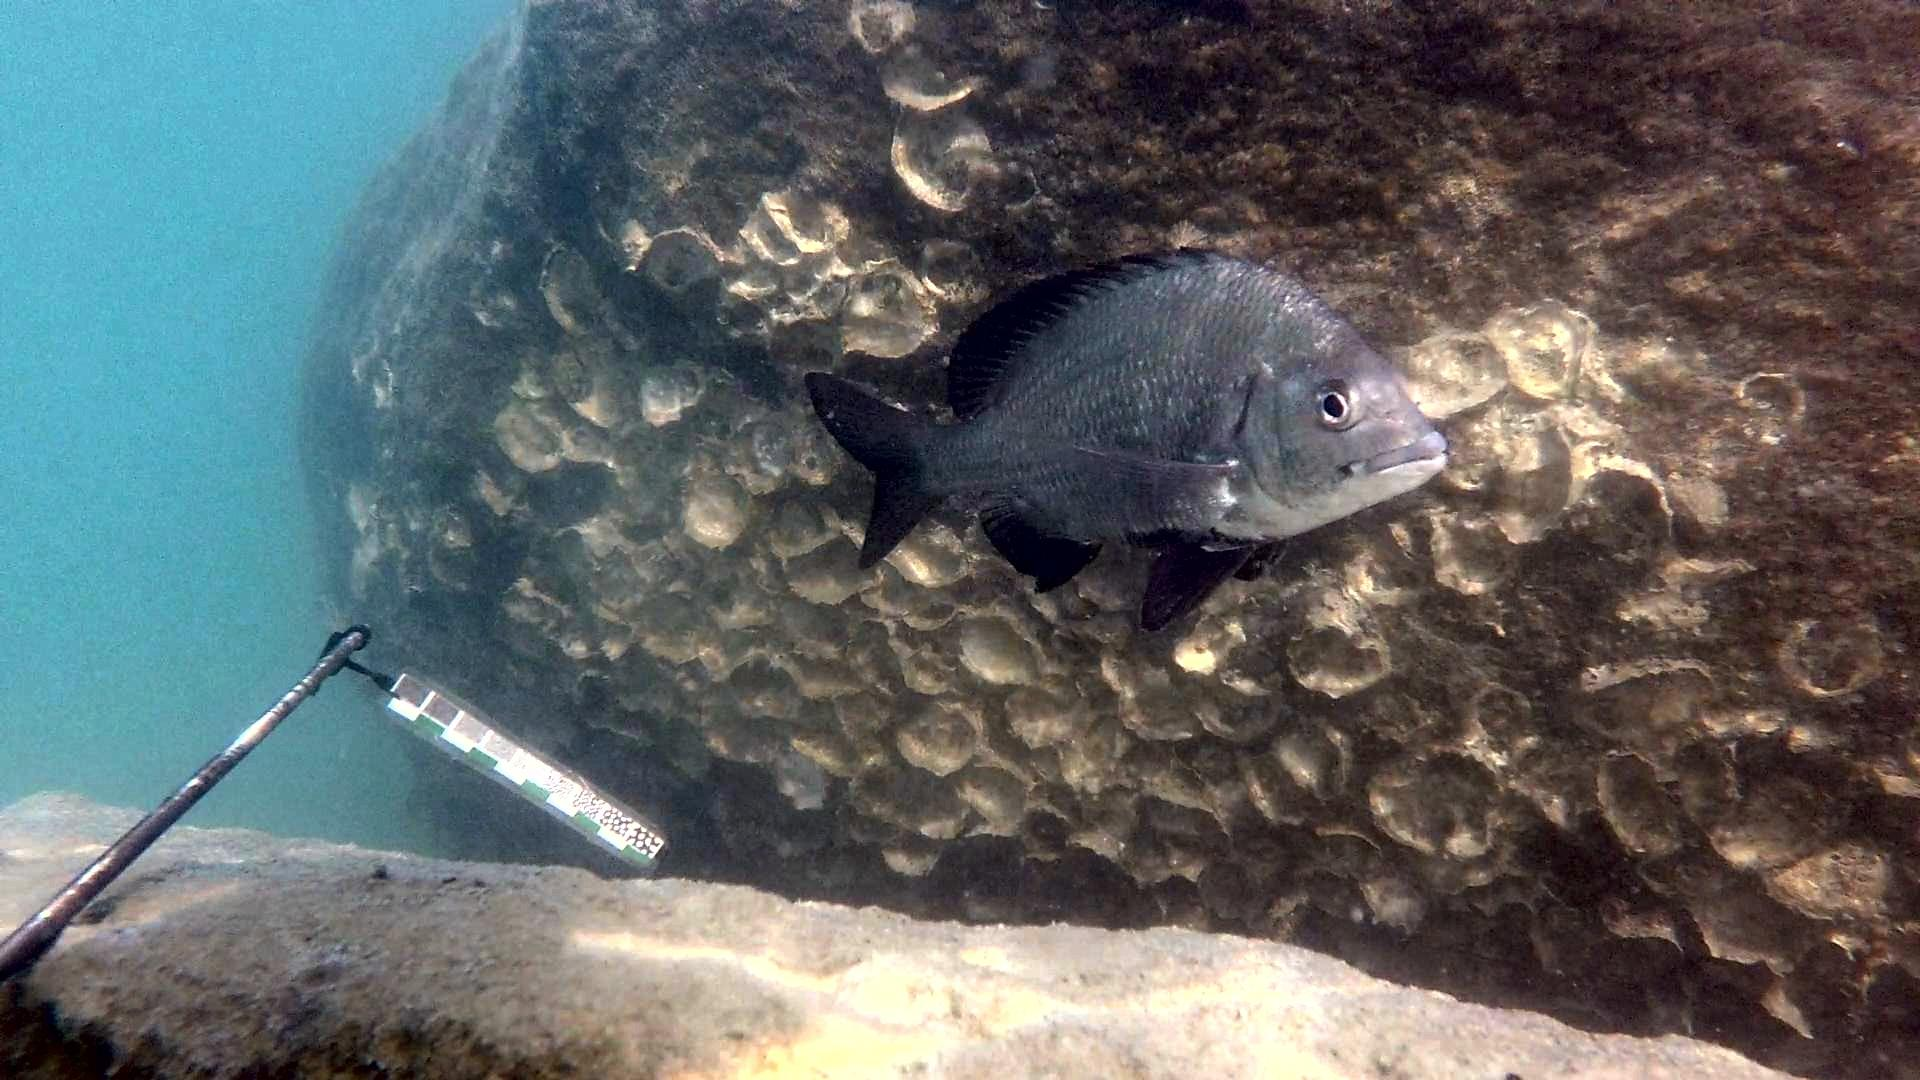acanthopagrus palmaris: (795, 239, 1455, 642)
